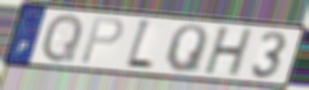3: (249, 31, 290, 81)
H: (201, 25, 257, 78)
L: (122, 17, 156, 73)
P: (78, 15, 127, 66)
Q: (162, 23, 210, 76), (39, 12, 85, 64)
